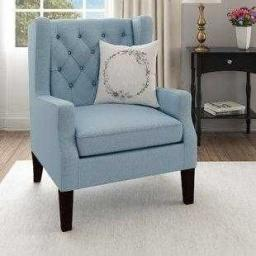Chair: (27, 21, 197, 231)
